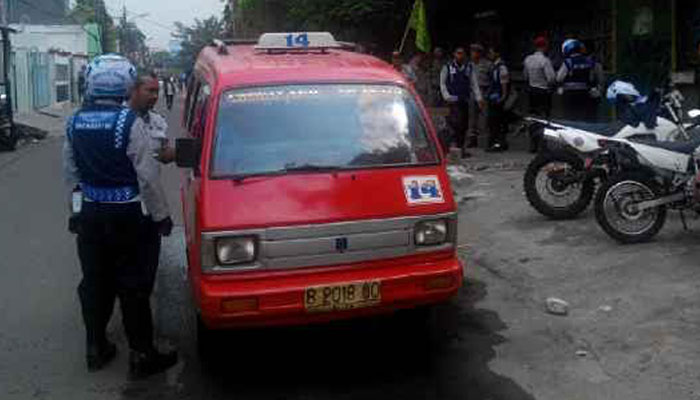plate: (304, 280, 380, 314)
